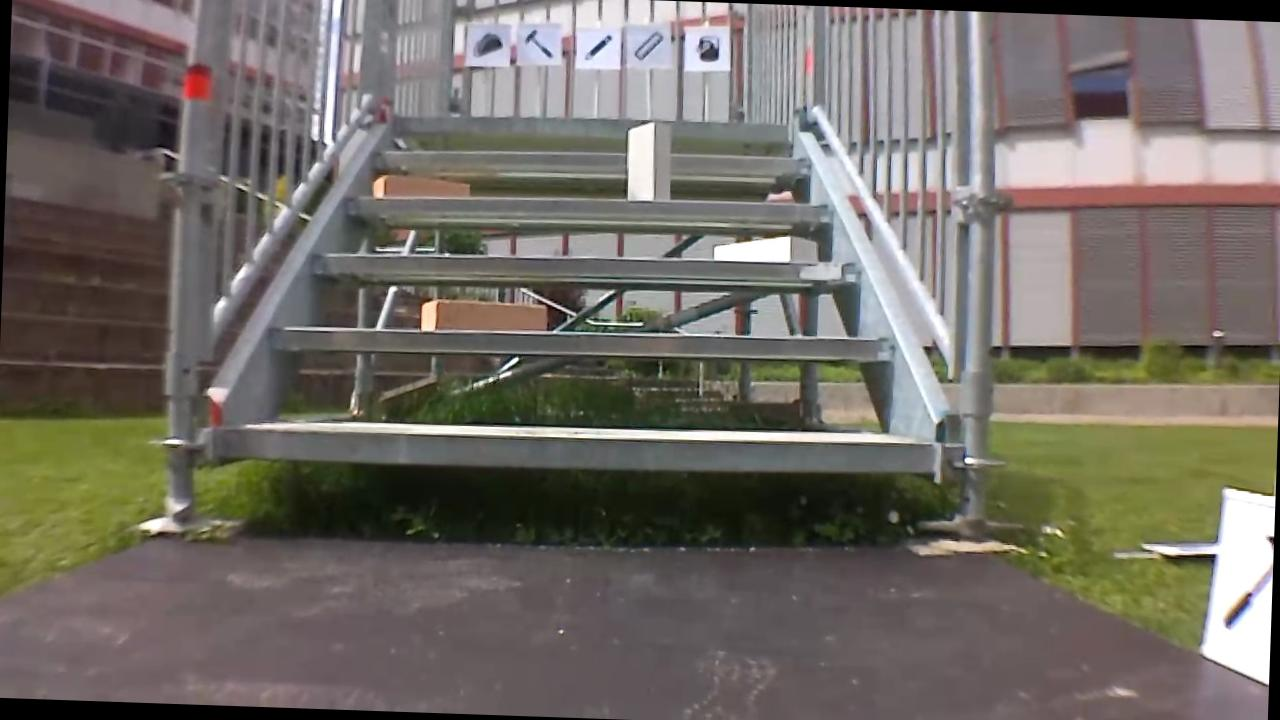brick: (420, 300, 544, 333), (627, 121, 672, 201), (713, 232, 816, 263), (371, 174, 466, 199)
bucket: (688, 31, 726, 66)
edge: (220, 418, 932, 481), (270, 316, 888, 364), (314, 243, 863, 288), (346, 186, 833, 226), (373, 143, 811, 177), (388, 109, 788, 144)
hammer: (520, 24, 557, 61)
pencil: (577, 29, 616, 64)
ruler: (631, 27, 665, 63)
steps: (204, 96, 950, 489)
taco: (467, 26, 505, 60)
